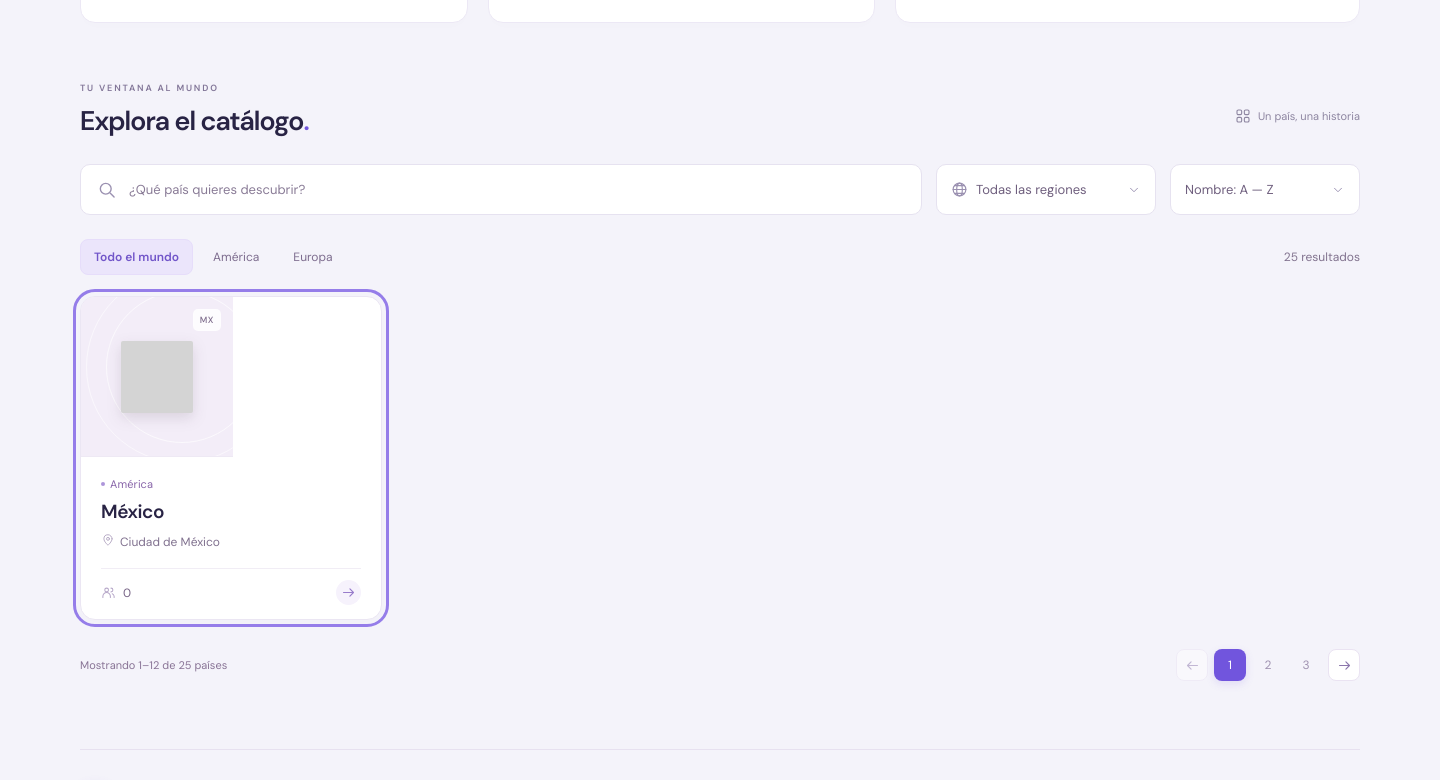
it: opens the selected country details, traps focus, closes with Escape and returns focus
The image size is (1440, 780).
(page scrolled)
Step 1. Click the button with aria-label "Explorar México" → (231, 458), box [80,296,382,620]
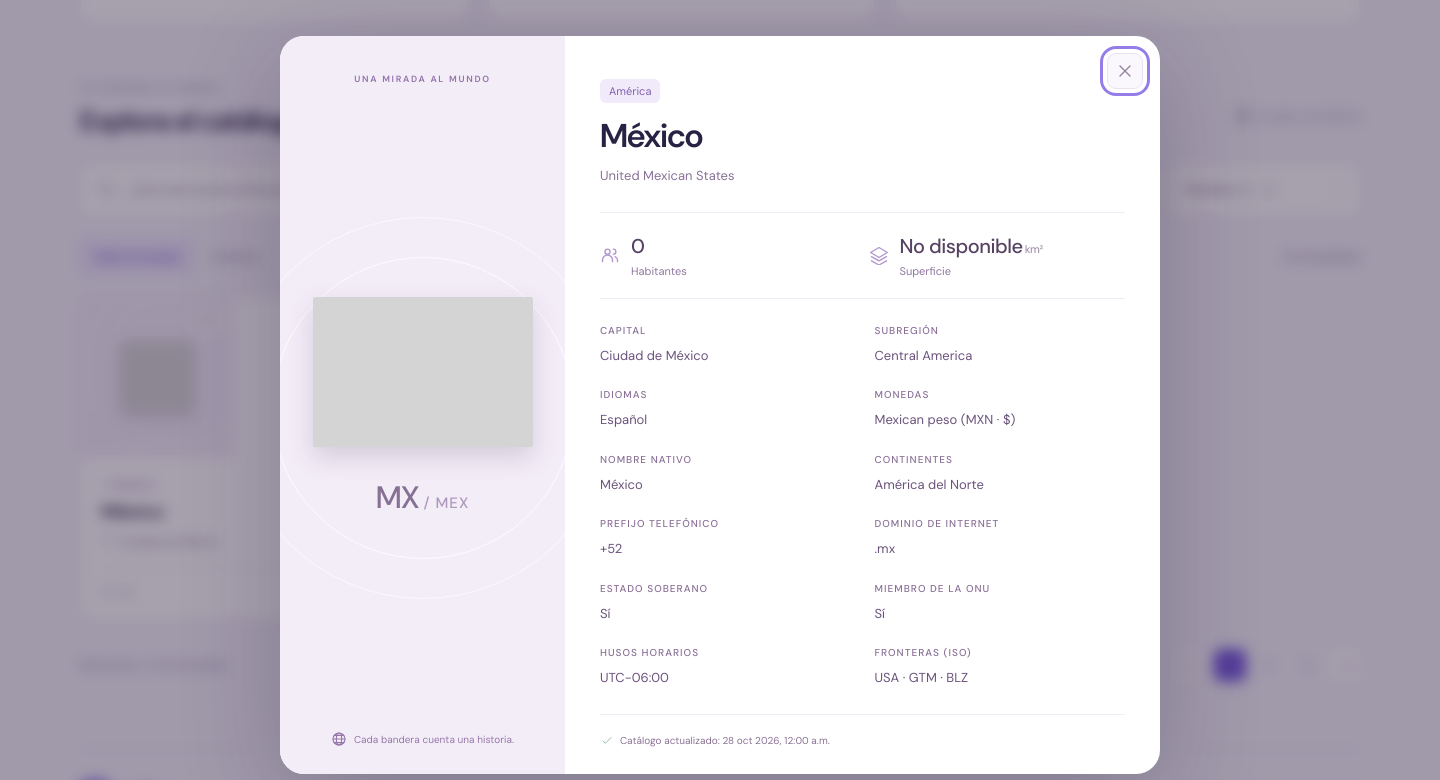
Expected: the text "Español" is shown, [600,411,647,428]
Expected: the text "No disponible" is shown, [900,233,1022,259]
Step 2. Press Tab
Step 3. Press Escape
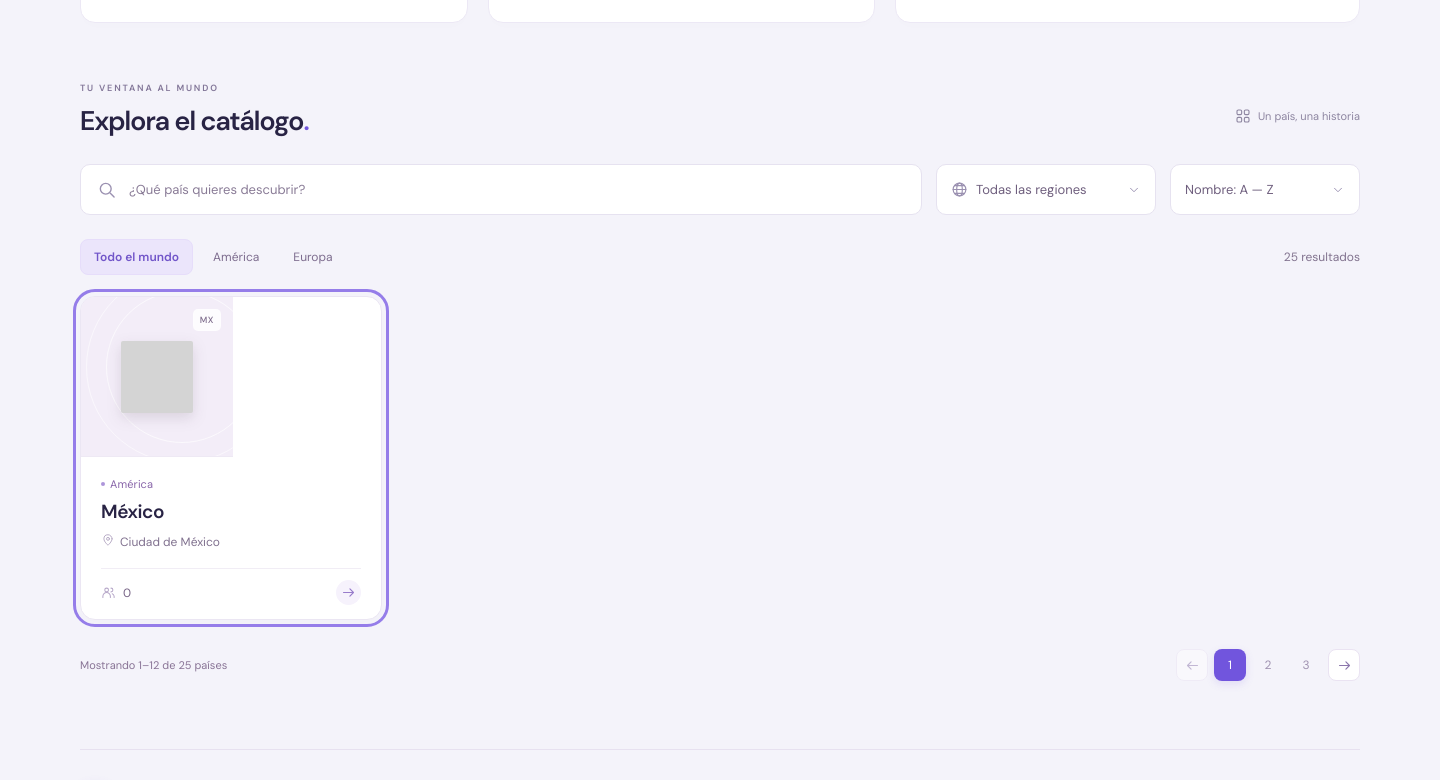
Expected: the dialog is gone
